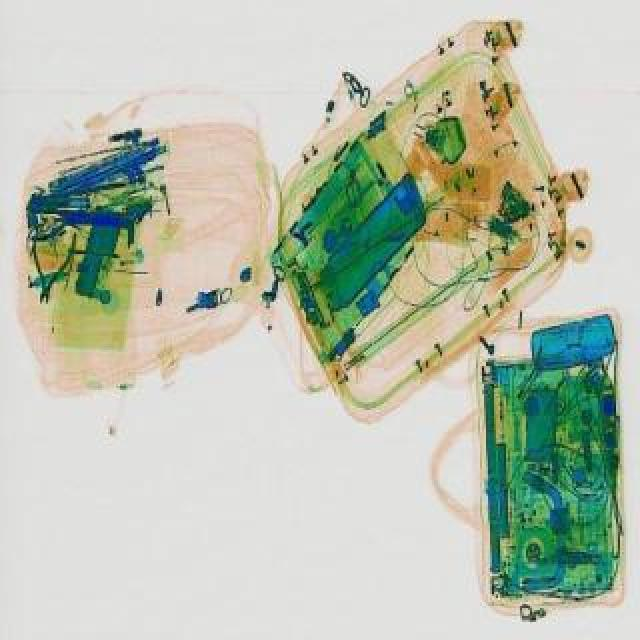wrench: (26, 208, 84, 240)
